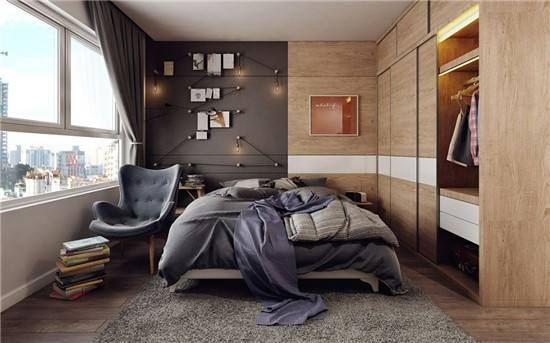床: (158, 183, 405, 298)
